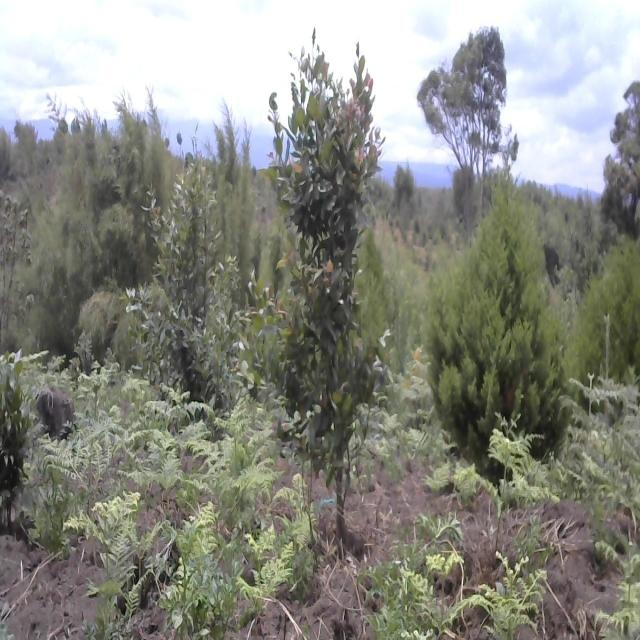Lemon Myrtle: (140, 140, 250, 388)
cedrus: (427, 180, 570, 450), (565, 235, 640, 409)
other: (260, 26, 414, 564), (421, 22, 538, 205)
